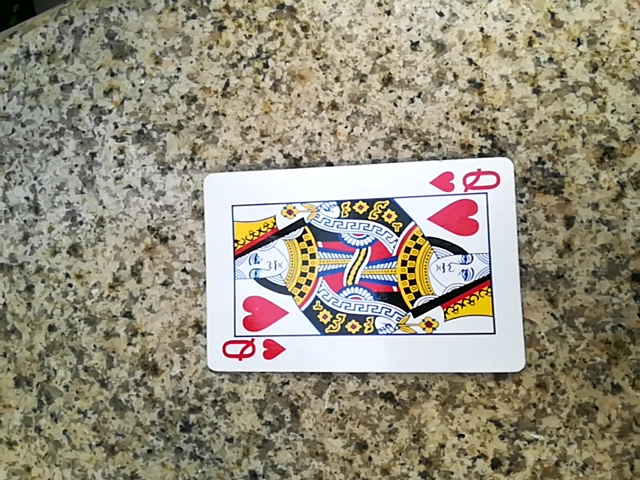hx q: (201, 154, 521, 370)
